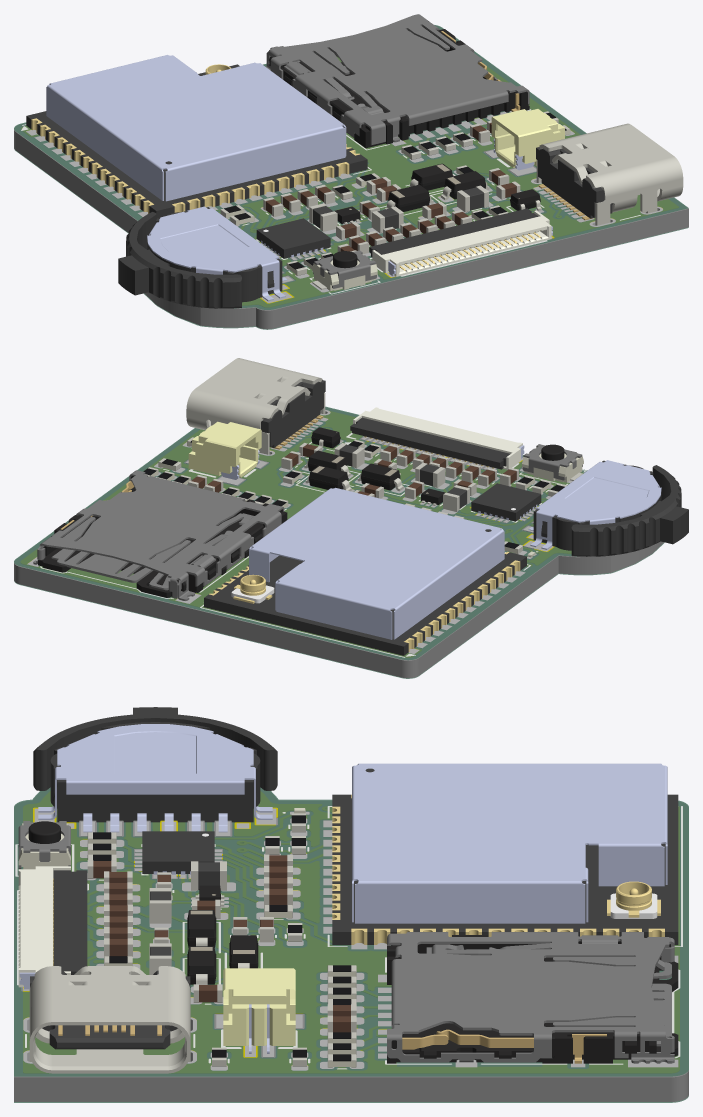
The picture shows the model from 3 angles, top to bottom: view 1: azimuth 30°, elevation 25°; view 2: azimuth 150°, elevation 25°; view 3: azimuth 270°, elevation 25°; orthographic projection. The views are drawn at different scales.
Parts seen in each view (by area): view 1: U1, J6, =>[0:1:1:22], =>[0:1:1:21], S1, J2, =>[0:1:1:17], J1, =>[0:1:1:18], J3, SW1, U2 (+8 smaller); view 2: U1, J6, =>[0:1:1:22], =>[0:1:1:21], S1, J2, =>[0:1:1:17], J1, J3, =>[0:1:1:18], SW1, U2 (+7 smaller); view 3: U1, =>[0:1:1:21], J6, =>[0:1:1:22], S1, =>[0:1:1:17], J2, =>[0:1:1:18], J1, J3, U2, SW1 (+7 smaller).
Part boxes in pixels (x1,y1,x2,y2): U1: [26, 55, 367, 219]; J6: [266, 14, 529, 148]; =>[0:1:1:22]: [14, 26, 688, 329]; =>[0:1:1:21]: [14, 25, 688, 329]; S1: [118, 206, 287, 308]; J2: [536, 123, 683, 225]; =>[0:1:1:17]: [21, 58, 678, 306]; J1: [369, 208, 552, 276]; =>[0:1:1:18]: [26, 111, 662, 303]; J3: [491, 109, 564, 170]; SW1: [312, 250, 377, 290]; U2: [256, 218, 330, 258]; U1: [204, 487, 526, 655]; J6: [33, 470, 287, 600]; =>[0:1:1:22]: [14, 408, 663, 678]; =>[0:1:1:21]: [14, 406, 664, 678]; S1: [528, 460, 688, 556]; J2: [186, 358, 325, 454]; =>[0:1:1:17]: [21, 411, 570, 657]; J1: [350, 407, 524, 469]; J3: [188, 421, 261, 479]; =>[0:1:1:18]: [27, 410, 572, 653]; SW1: [521, 444, 583, 482]; U2: [471, 483, 541, 521]; U1: [332, 763, 678, 944]; =>[0:1:1:21]: [14, 787, 688, 1102]; J6: [387, 932, 678, 1063]; =>[0:1:1:22]: [14, 788, 688, 1101]; S1: [33, 707, 277, 832]; =>[0:1:1:17]: [23, 792, 679, 1072]; J2: [29, 966, 190, 1073]; =>[0:1:1:18]: [23, 808, 678, 1070]; J1: [18, 866, 87, 989]; J3: [223, 968, 295, 1053]; U2: [142, 831, 214, 874]; SW1: [18, 821, 70, 869].
Size of the model in its own units: 0.0435 by 0.00499 by 0.0374.
